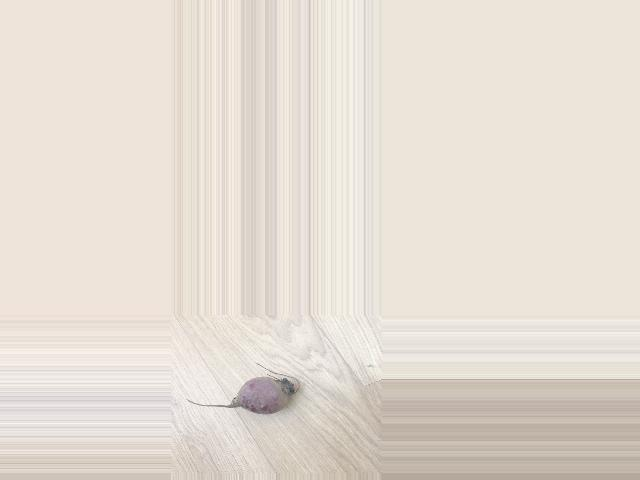beet: (185, 363, 299, 415)
